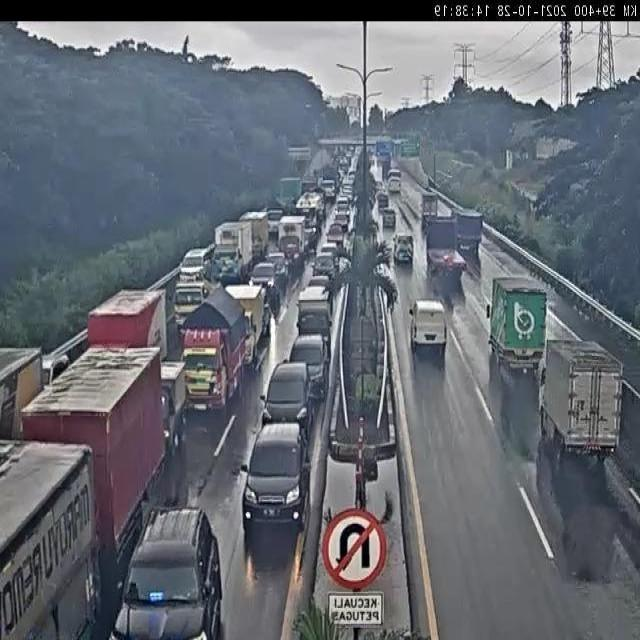Car: (108, 506, 222, 638), (240, 422, 310, 532), (257, 362, 309, 432), (224, 284, 268, 366), (289, 333, 327, 406), (296, 285, 333, 341), (173, 280, 209, 331), (210, 244, 243, 286), (263, 252, 288, 288), (304, 274, 332, 300), (421, 193, 439, 232), (312, 251, 336, 280), (326, 222, 346, 248), (335, 201, 351, 230), (342, 179, 356, 207), (381, 207, 396, 230), (388, 170, 402, 194), (336, 168, 347, 190), (377, 191, 389, 210), (374, 179, 384, 198)
Truck: (0, 438, 101, 640), (537, 339, 622, 462), (175, 294, 241, 416), (488, 276, 548, 378), (88, 289, 168, 365), (424, 213, 463, 289), (454, 210, 484, 266), (278, 215, 307, 260)
Van: (408, 296, 456, 363), (389, 228, 417, 270)
